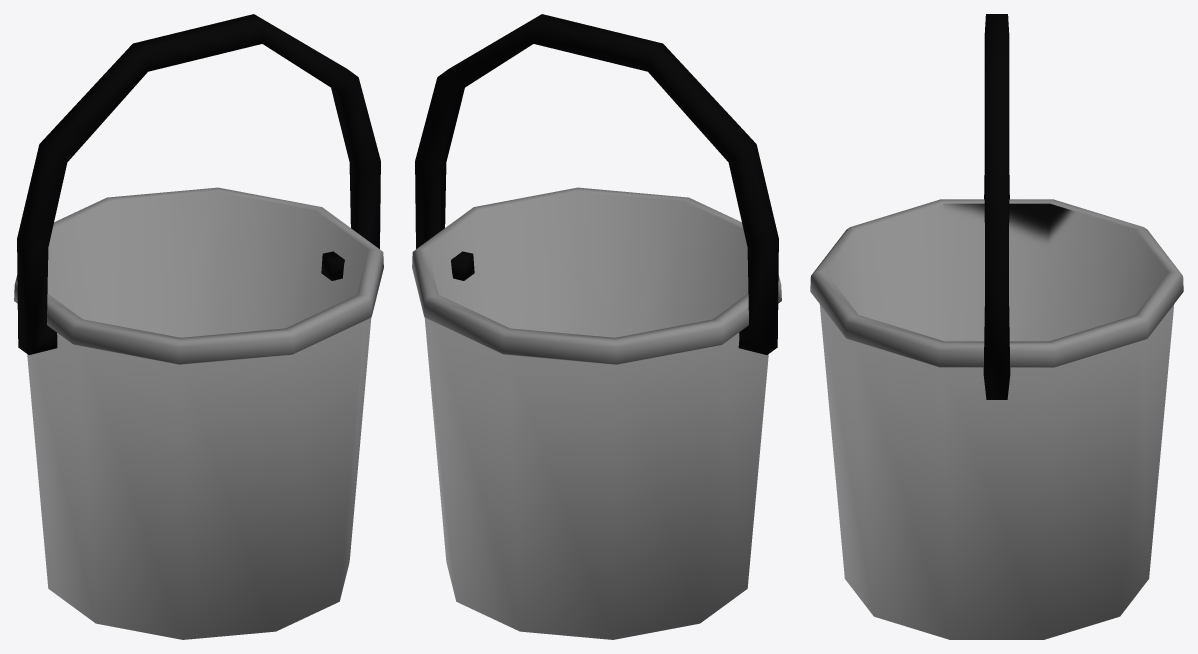
Rendered from Bucket.fbx.
The picture shows the model from 3 angles, left to right: view 1: azimuth 30°, elevation 25°; view 2: azimuth 150°, elevation 25°; view 3: azimuth 270°, elevation 25°; orthographic projection.
Visible parts, largest first — view 1: Bucket, Bucket_Handle; view 2: Bucket, Bucket_Handle; view 3: Bucket, Bucket_Handle.
Part boxes in pixels (bbox=[...]): Bucket: bbox=[14, 187, 383, 639]; Bucket_Handle: bbox=[17, 14, 380, 354]; Bucket: bbox=[412, 187, 781, 639]; Bucket_Handle: bbox=[415, 14, 778, 354]; Bucket: bbox=[810, 199, 1183, 639]; Bucket_Handle: bbox=[983, 14, 1010, 399].
Size of the model in its own units: 35.66 by 52.44 by 33.14.
